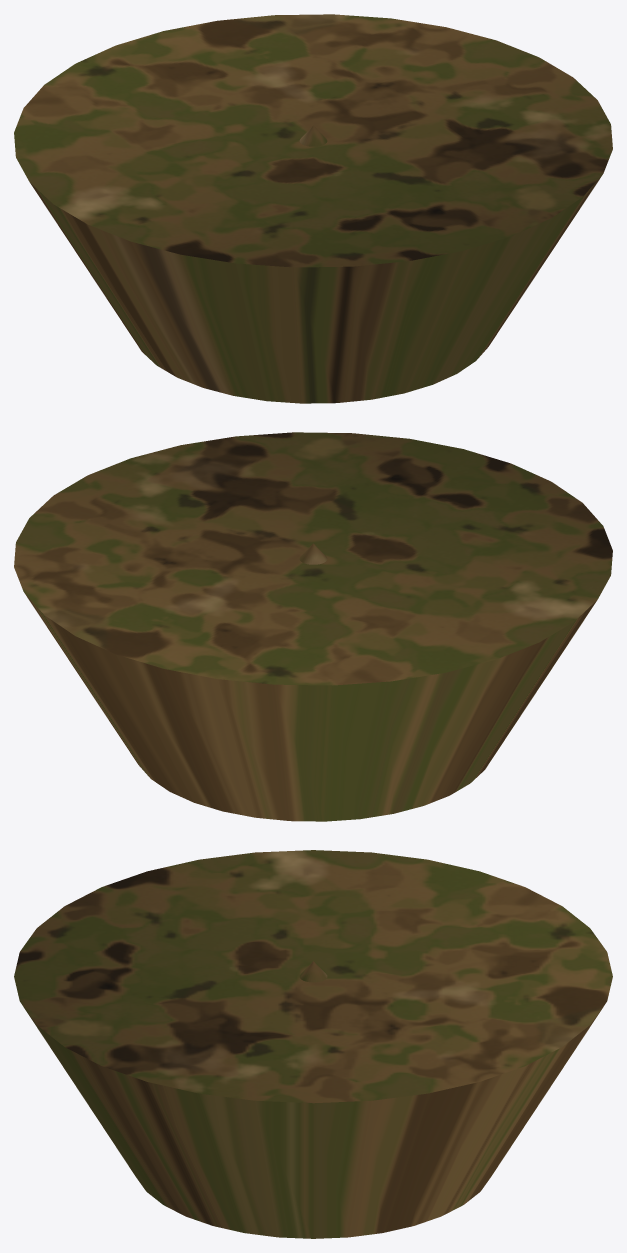
Rendered from S sharp.glb.
The picture shows the model from 3 angles, top to bottom: view 1: azimuth 30°, elevation 25°; view 2: azimuth 150°, elevation 25°; view 3: azimuth 270°, elevation 25°; orthographic projection.
Visible parts, largest first — view 1: S sharp; view 2: S sharp; view 3: S sharp.
Part boxes in pixels (<box>): S sharp: <box>14,14,612,403</box>; S sharp: <box>14,432,612,821</box>; S sharp: <box>14,850,612,1238</box>.
Bounding box in the file's own units: 0.3139 × 0.1165 × 0.3139.
1 material, 1 textured.
